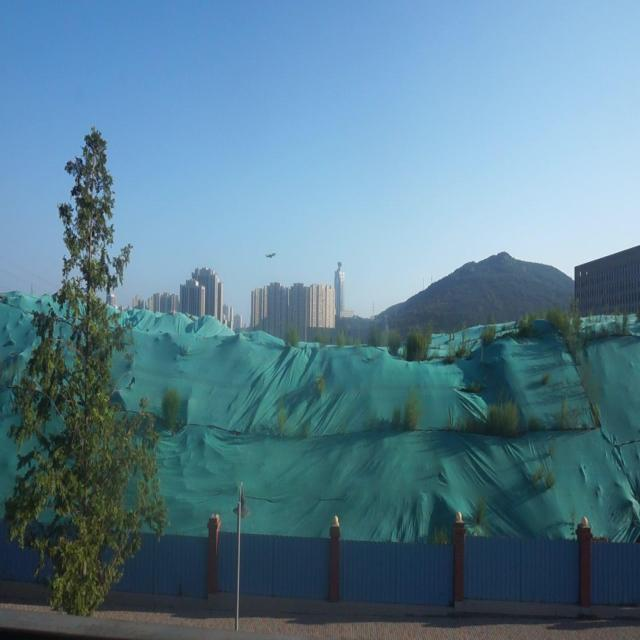drone: (264, 248, 276, 260)
